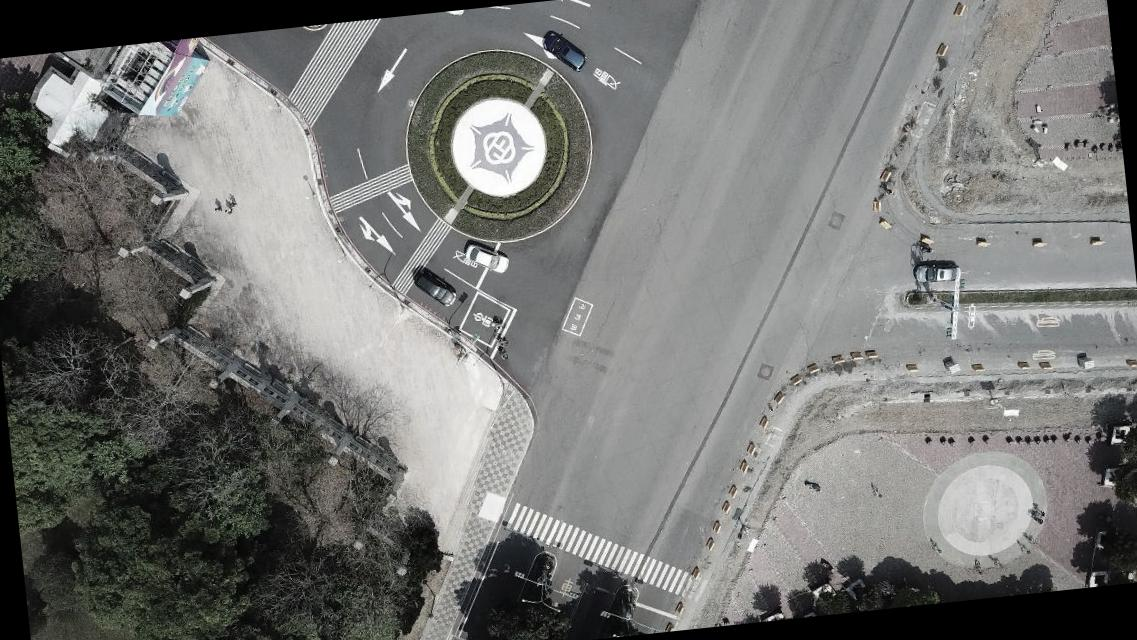vehicle: (409, 261, 458, 309), (541, 29, 589, 73), (462, 238, 510, 278), (912, 258, 964, 284)
